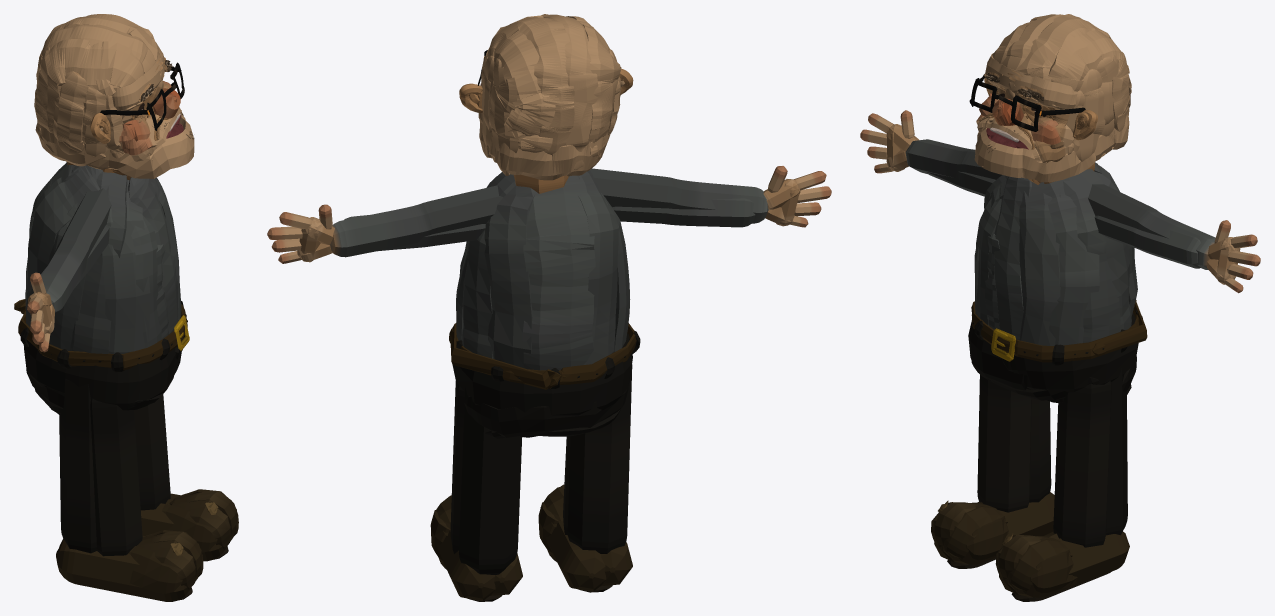
The model's file is grandpa.fbx.
3 renders of one model, left to right at view 1: azimuth 30°, elevation 25°; view 2: azimuth 150°, elevation 25°; view 3: azimuth 270°, elevation 25°, orthographic. The views are drawn at different scales.
Visible parts, largest first — view 1: Legs, Body, Skin, Shoe, rArms, Glasses, lines; view 2: Legs, Body, Skin, rArms, Shoe; view 3: Legs, Body, Skin, rArms, Shoe, Glasses, lines.
Boxes of the visible parts, x1,y1,x2,y2 form: Legs: [14, 299, 189, 556]; Body: [25, 162, 181, 353]; Skin: [34, 14, 194, 178]; Shoe: [56, 489, 238, 601]; rArms: [27, 188, 111, 352]; Glasses: [100, 62, 184, 130]; lines: [130, 60, 194, 140]; Legs: [449, 323, 640, 574]; Body: [456, 170, 630, 370]; Skin: [459, 14, 633, 180]; rArms: [267, 166, 831, 263]; Shoe: [430, 484, 632, 601]; Legs: [968, 300, 1147, 547]; Body: [974, 162, 1137, 345]; Skin: [974, 14, 1131, 182]; rArms: [860, 110, 1260, 293]; Shoe: [931, 492, 1129, 601]; Glasses: [969, 74, 1085, 131]; lines: [977, 73, 1054, 152].
Bounding box in the file's own units: 1.2 × 1.88 × 1.28.
